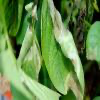Potato leaf late blight: (40, 0, 86, 99), (19, 22, 42, 91)
